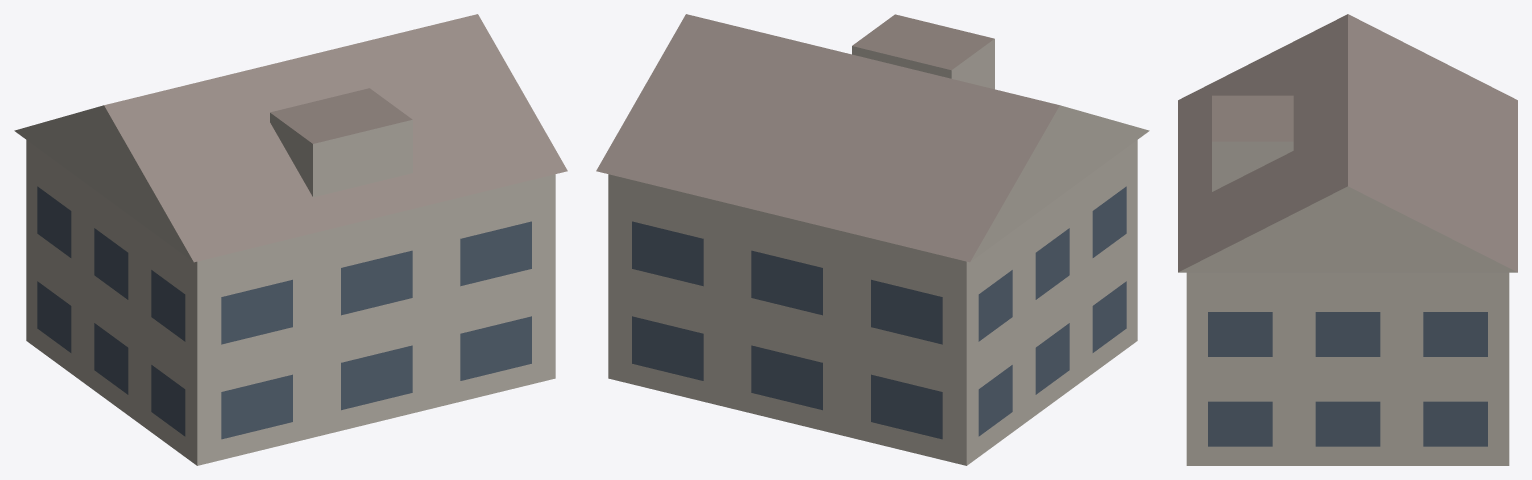
Rendered from house_04_two_story_dormer.glb.
3 views of the same model, side by side, from view 1: azimuth 30°, elevation 25°; view 2: azimuth 150°, elevation 25°; view 3: azimuth 270°, elevation 25° (orthographic). The views are drawn at different scales.
Visible parts, largest first — view 1: house_04_two_story_dormer; view 2: house_04_two_story_dormer; view 3: house_04_two_story_dormer.
Boxes of the visible parts, x1=… form: house_04_two_story_dormer: x1=14, y1=14, x2=567, y2=465; house_04_two_story_dormer: x1=596, y1=14, x2=1149, y2=465; house_04_two_story_dormer: x1=1178, y1=14, x2=1517, y2=465.
Bounding box in the file's own units: 12 × 9.2 × 10.
